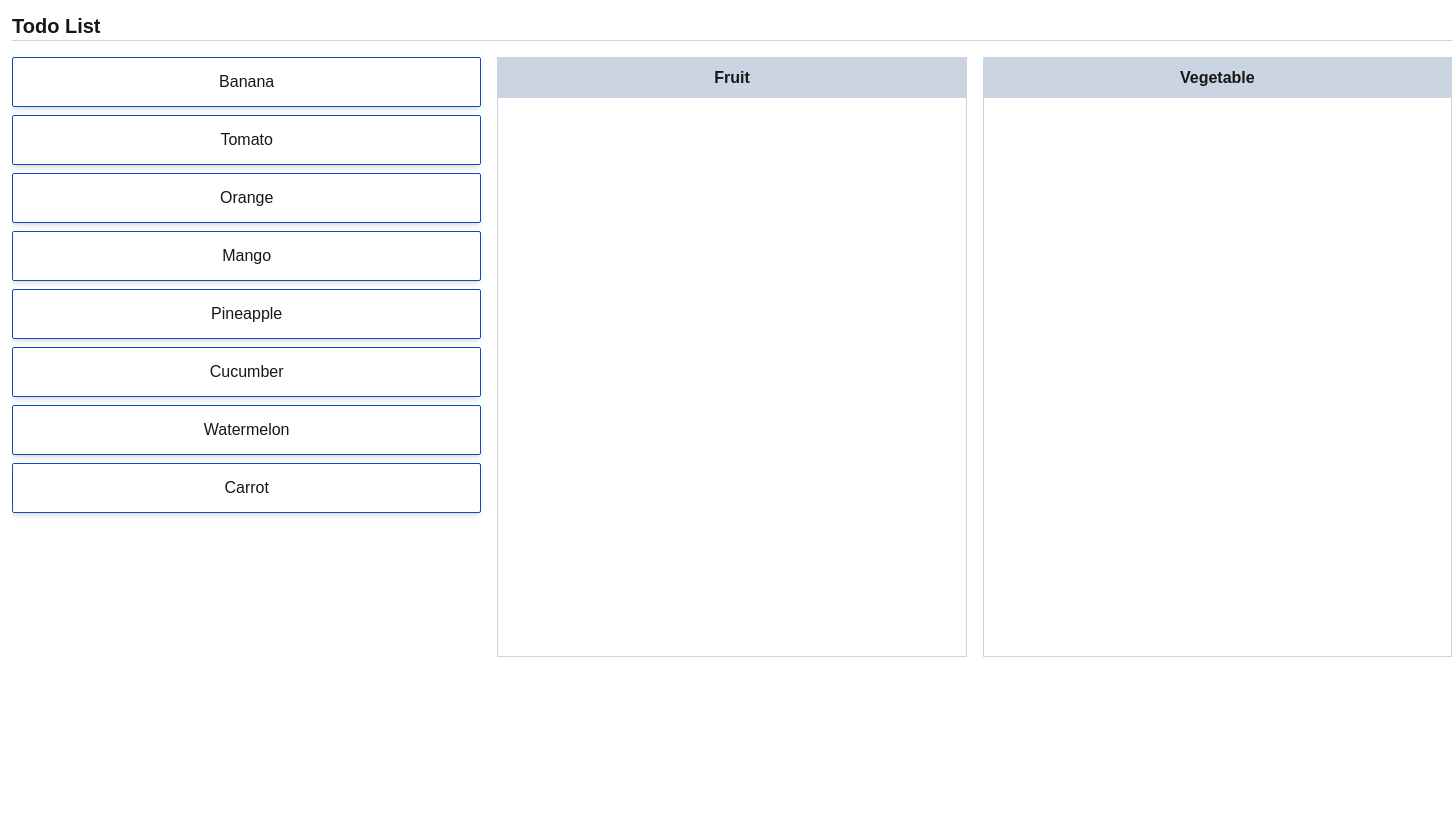
Test: Todo Auto Remove › should remove item after 5 seconds, when at 4 it should not remove
The width and height of the screenshot is (1452, 822).
Click the button with test id "todo-item" showing "Banana" at (247, 82), box [12, 57, 481, 107]
Wait 4000 ms
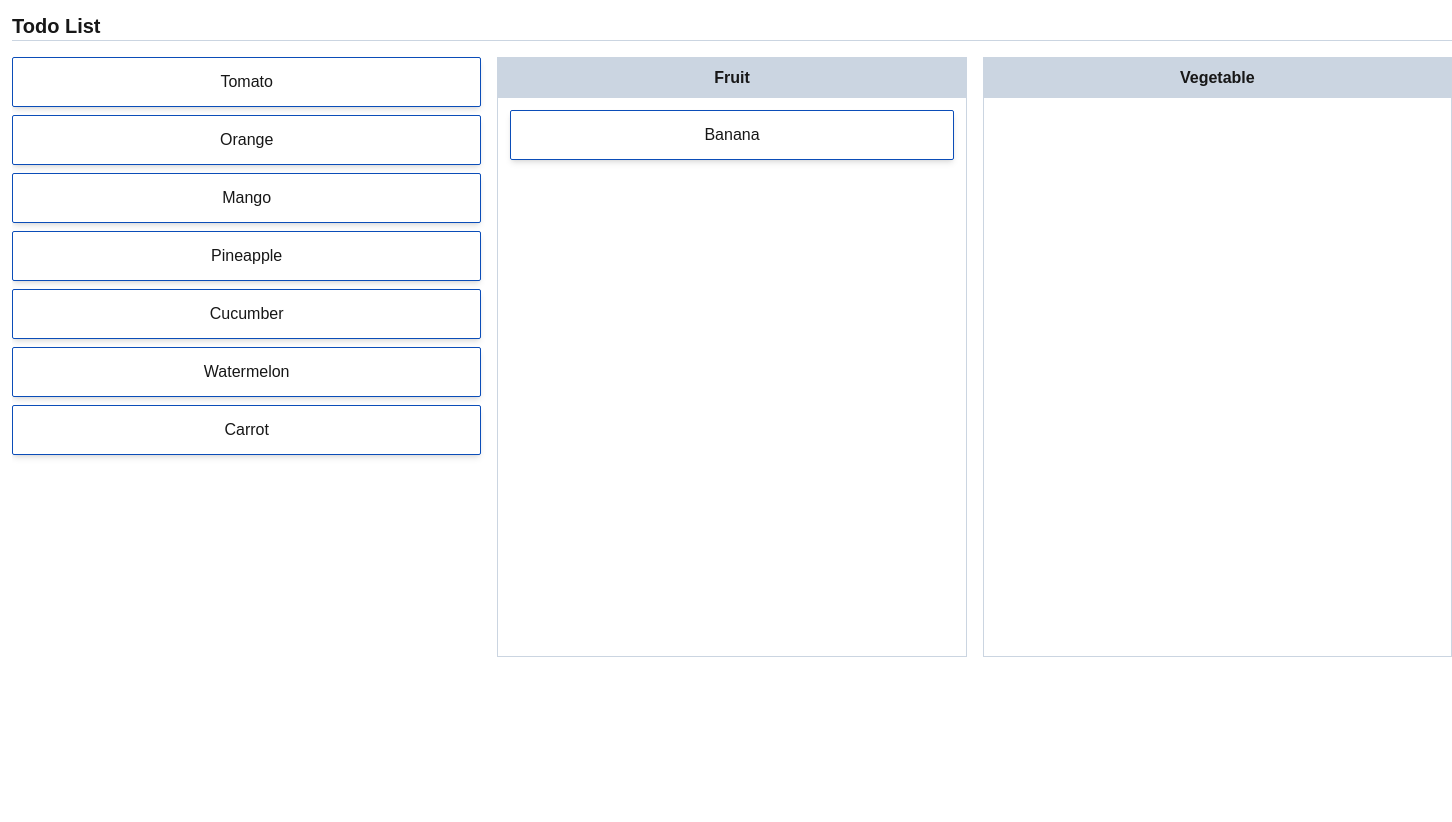
Check: the number of buttons with test id "todo-item" is 7
